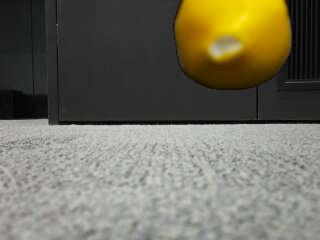lemon: (175, 1, 290, 89)
